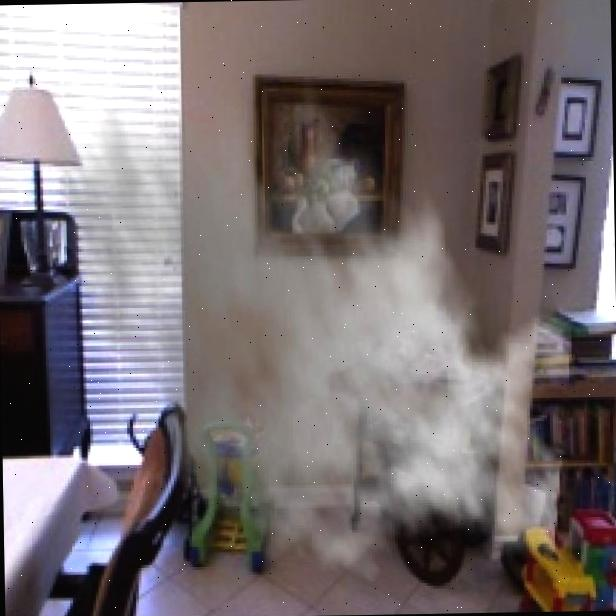smoke: (48, 40, 578, 606)
